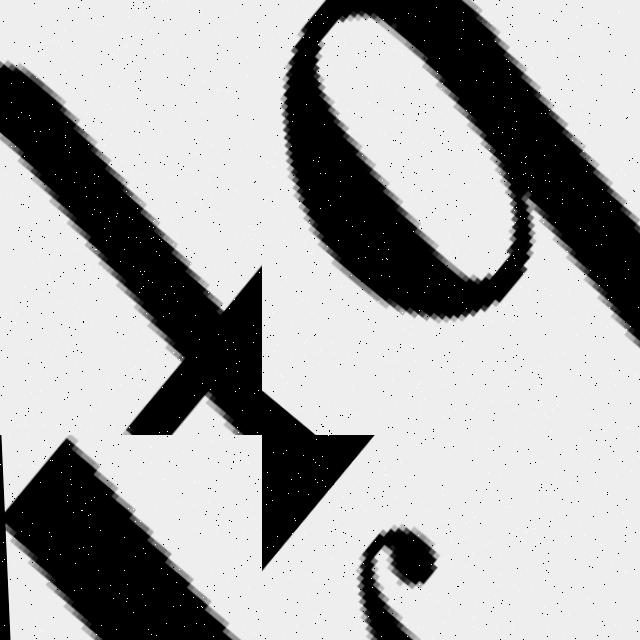B: (274, 0, 640, 368)
J: (262, 488, 640, 640)
N: (0, 435, 262, 640)
T: (0, 0, 262, 435)
